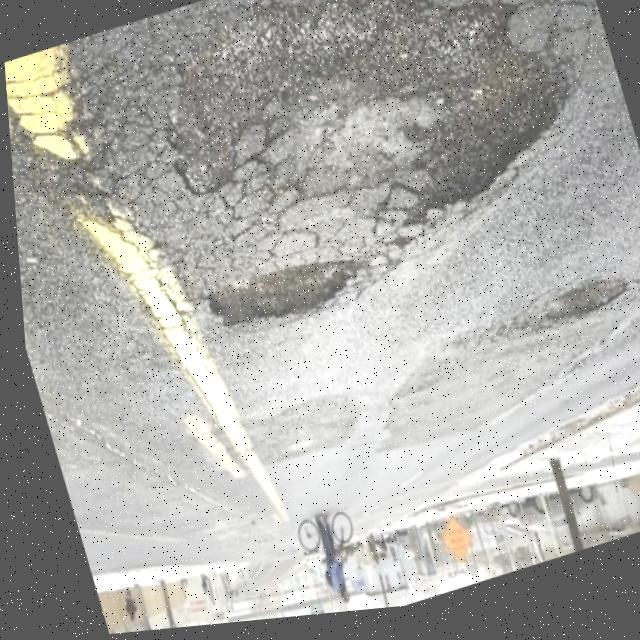pothole: (356, 0, 590, 251), (182, 226, 372, 366), (525, 270, 637, 354)
